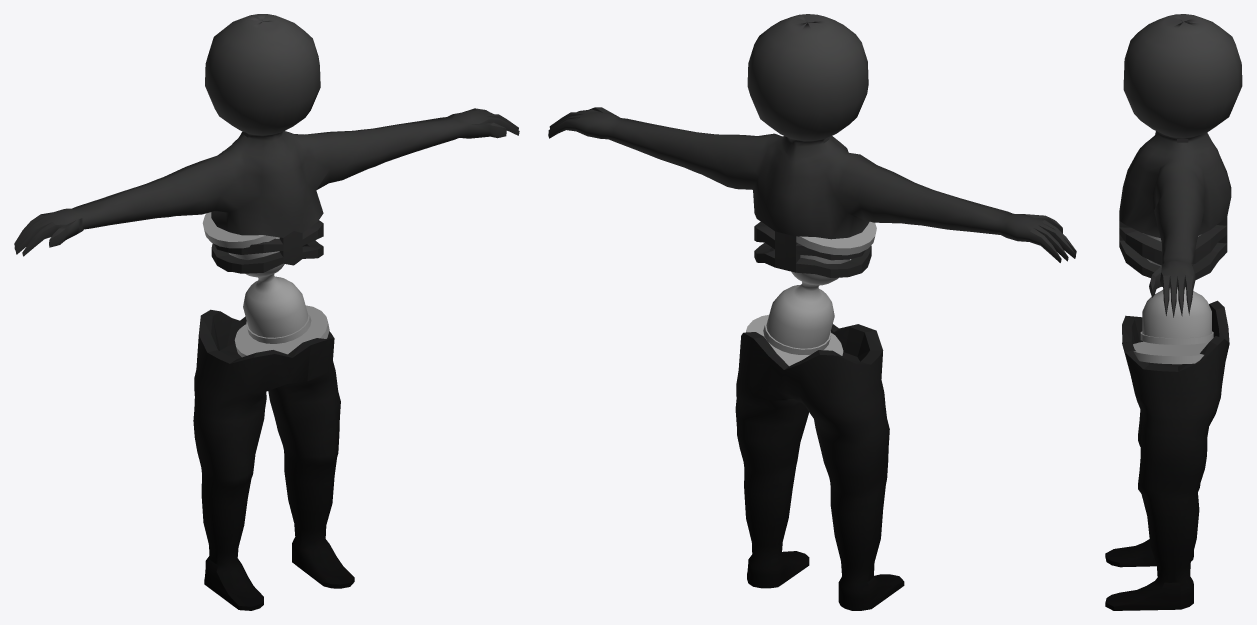
The model's file is Time Enemy Skeleton.FBX.
3 views of the same model, side by side, from view 1: azimuth 30°, elevation 25°; view 2: azimuth 150°, elevation 25°; view 3: azimuth 270°, elevation 25° (orthographic). The views are drawn at different scales.
Visible parts, largest first — view 1: Base Enemy003, Cylinder011, Cylinder015, Cylinder013; view 2: Base Enemy003, Cylinder011, Cylinder013, Cylinder015; view 3: Base Enemy003, Cylinder011, Cylinder015.
Part boxes in pixels (<box>): Base Enemy003: <box>14,14,519,610</box>; Cylinder011: <box>229,237,311,343</box>; Cylinder015: <box>234,305,329,357</box>; Cylinder013: <box>202,212,277,248</box>; Base Enemy003: <box>548,14,1076,610</box>; Cylinder011: <box>763,255,850,354</box>; Cylinder013: <box>796,221,876,255</box>; Cylinder015: <box>746,315,843,366</box>; Base Enemy003: <box>1105,14,1242,610</box>; Cylinder011: <box>1140,233,1213,344</box>; Cylinder015: <box>1133,341,1208,364</box>.
Size of the model in its own units: 8.27 by 1.91 by 8.63.
4 materials, 1 textured.
